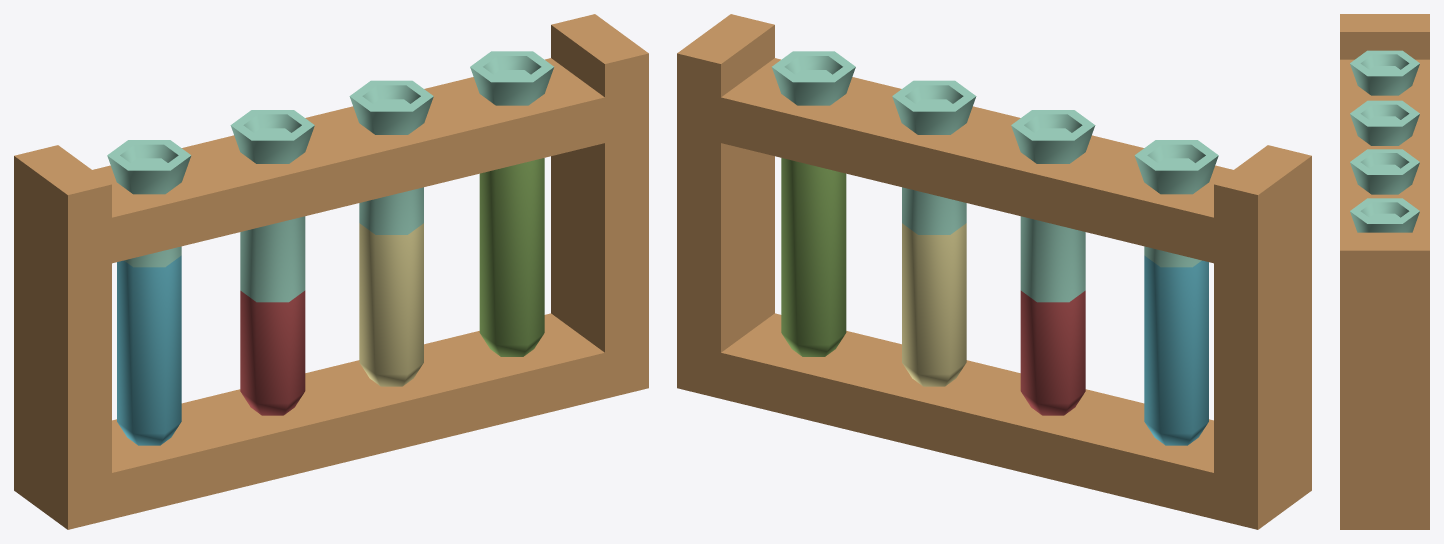
File: Lab_TestTube.glb
3 renders of one model, left to right at view 1: azimuth 30°, elevation 25°; view 2: azimuth 150°, elevation 25°; view 3: azimuth 270°, elevation 25°, orthographic. The views are drawn at different scales.
Visible parts, largest first — view 1: Tube; view 2: Tube; view 3: Tube.
Part boxes in pixels (x1=…): Tube: x1=14, y1=14, x2=648, y2=529; Tube: x1=677, y1=14, x2=1311, y2=529; Tube: x1=1340, y1=14, x2=1429, y2=529.
Size of the model in its own units: 0.5559 by 0.306 by 0.0892.
